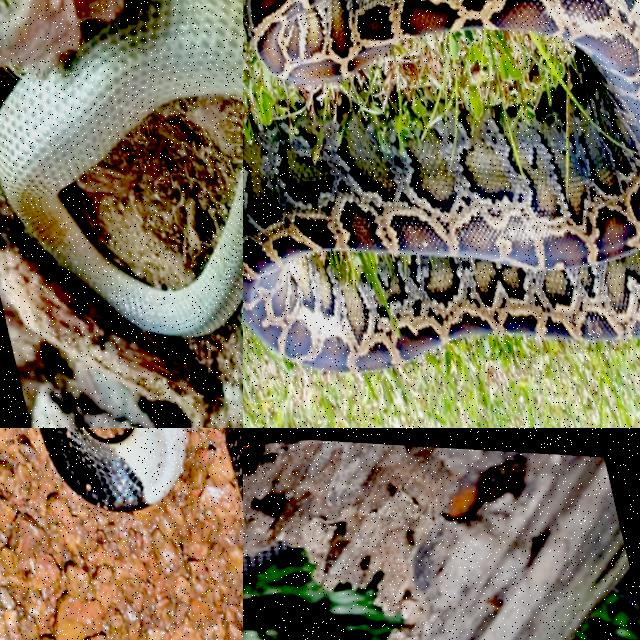Bungarus candidus: (39, 428, 184, 509)
Naja kaouthia: (243, 545, 287, 579)
Naja siamensis: (0, 0, 242, 334)
Python bivittatus: (243, 0, 639, 370)
